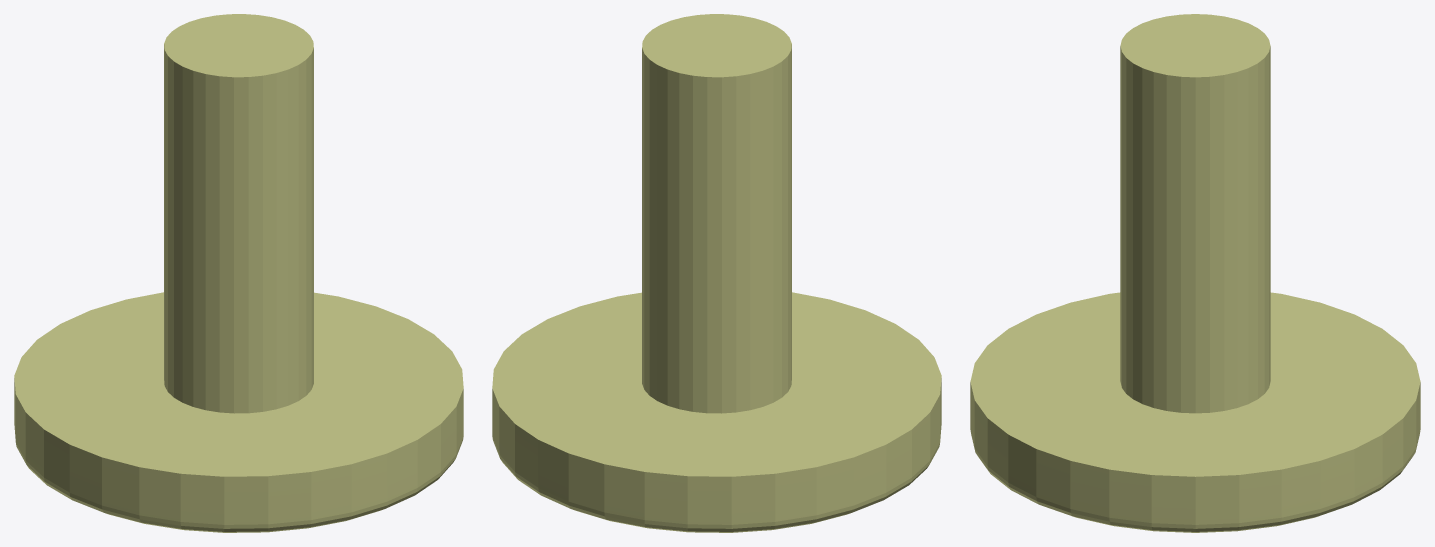
The model's file is Button.fbx.
The picture shows the model from 3 angles, left to right: view 1: azimuth 30°, elevation 25°; view 2: azimuth 150°, elevation 25°; view 3: azimuth 270°, elevation 25°; orthographic projection.
Visible parts, largest first — view 1: Cylinder.001; view 2: Cylinder.001; view 3: Cylinder.001.
Part boxes in pixels (x1=…): Cylinder.001: x1=14, y1=14, x2=463, y2=532; Cylinder.001: x1=492, y1=14, x2=941, y2=532; Cylinder.001: x1=970, y1=14, x2=1420, y2=532.
Size of the model in its own units: 120 by 118 by 120.
